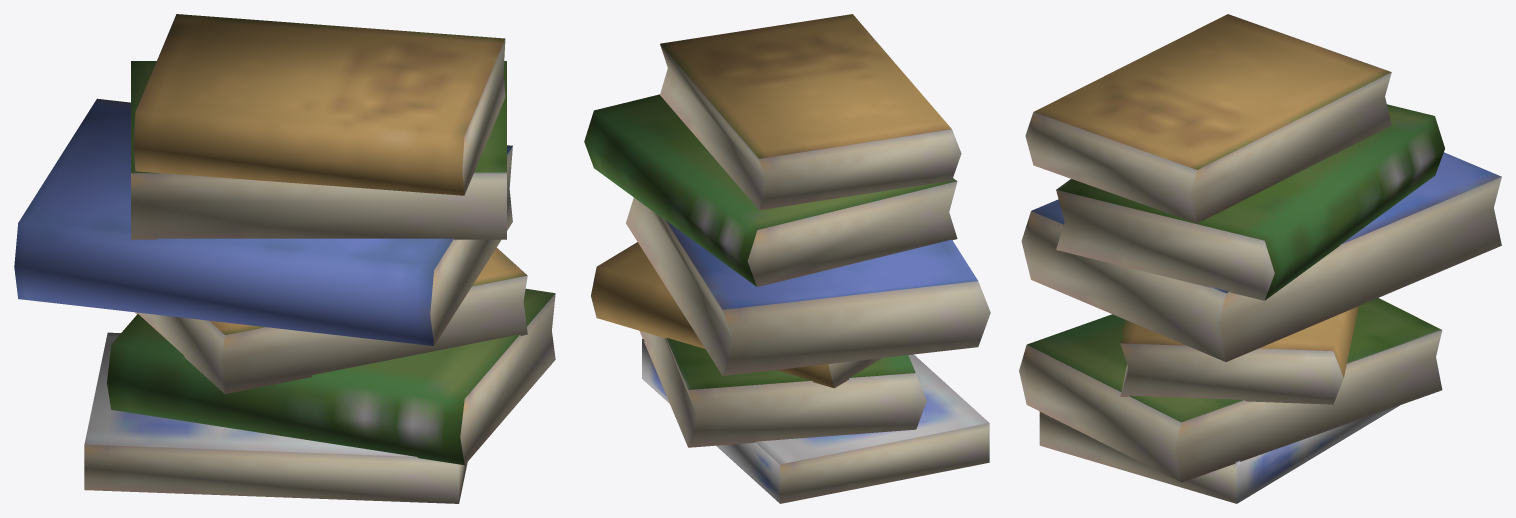
File: school_wj023_03.FBX
The picture shows the model from 3 angles, left to right: view 1: azimuth 30°, elevation 25°; view 2: azimuth 150°, elevation 25°; view 3: azimuth 270°, elevation 25°; orthographic projection. The views are drawn at different scales.
Visible parts, largest first — view 1: school_wj023_03; view 2: school_wj023_03; view 3: school_wj023_03.
Part boxes in pixels (x1=…): school_wj023_03: x1=14, y1=14, x2=555, y2=503; school_wj023_03: x1=584, y1=14, x2=990, y2=503; school_wj023_03: x1=1019, y1=14, x2=1501, y2=503.
Size of the model in its own units: 53.71 by 39.46 by 51.63.
1 material, 1 textured.
